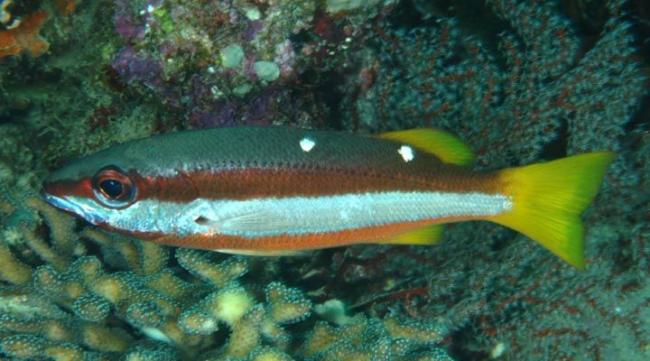fish: (40, 127, 619, 271)
